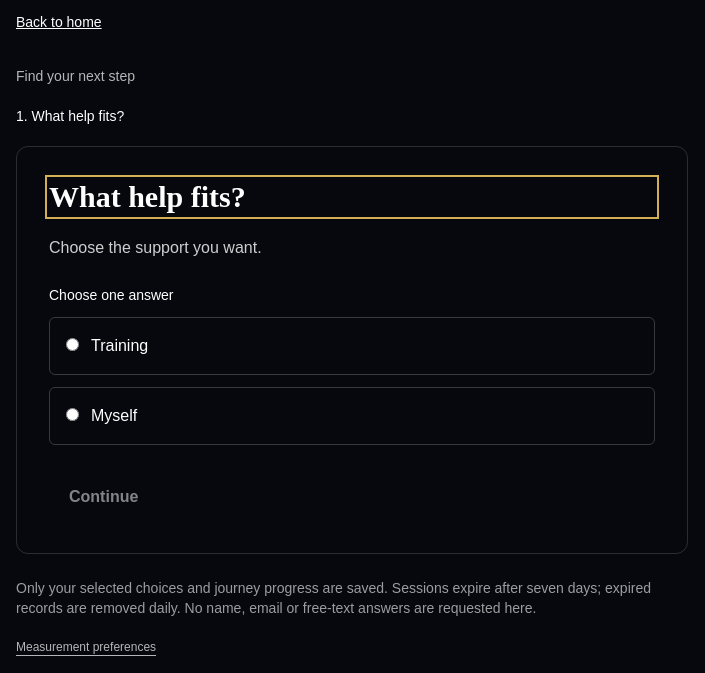
Test: public journey runner › shows a server question and advances only after a valid choice
Check: the heading "What help fits?" is shown, box top-left (49, 180), bottom-right (246, 213)
Check: the button "Continue" is disabled, box top-left (49, 473), bottom-right (158, 521)
Click the radio button labelled "Myself".
click(72, 414)  # box top-left (66, 408), bottom-right (79, 421)
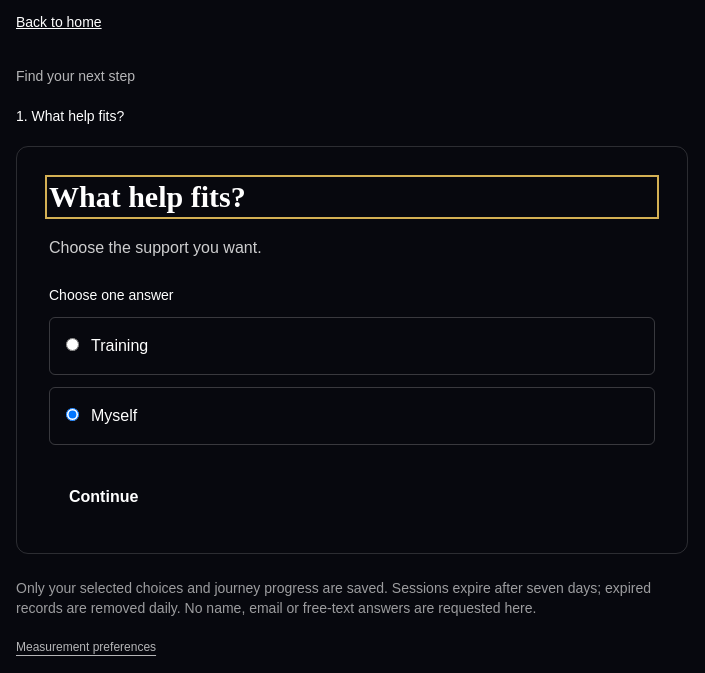
Click the button "Continue".
click(104, 497)  # box top-left (49, 473), bottom-right (158, 521)
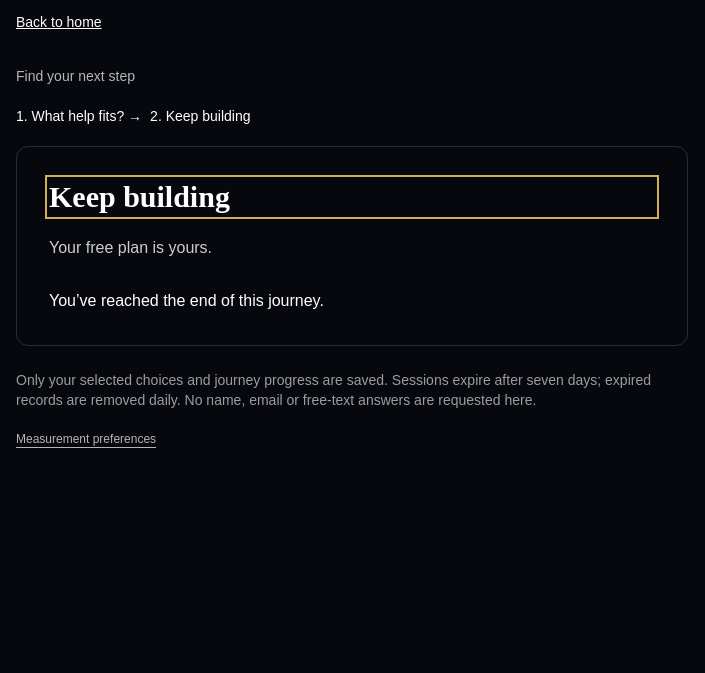
Check: the navigation bar named "Journey progress" shows "What help fits?", box top-left (32, 108), bottom-right (124, 124)
Check: the heading "Keep building" is shown, box top-left (49, 180), bottom-right (230, 213)
Check: the button "Continue" is gone
